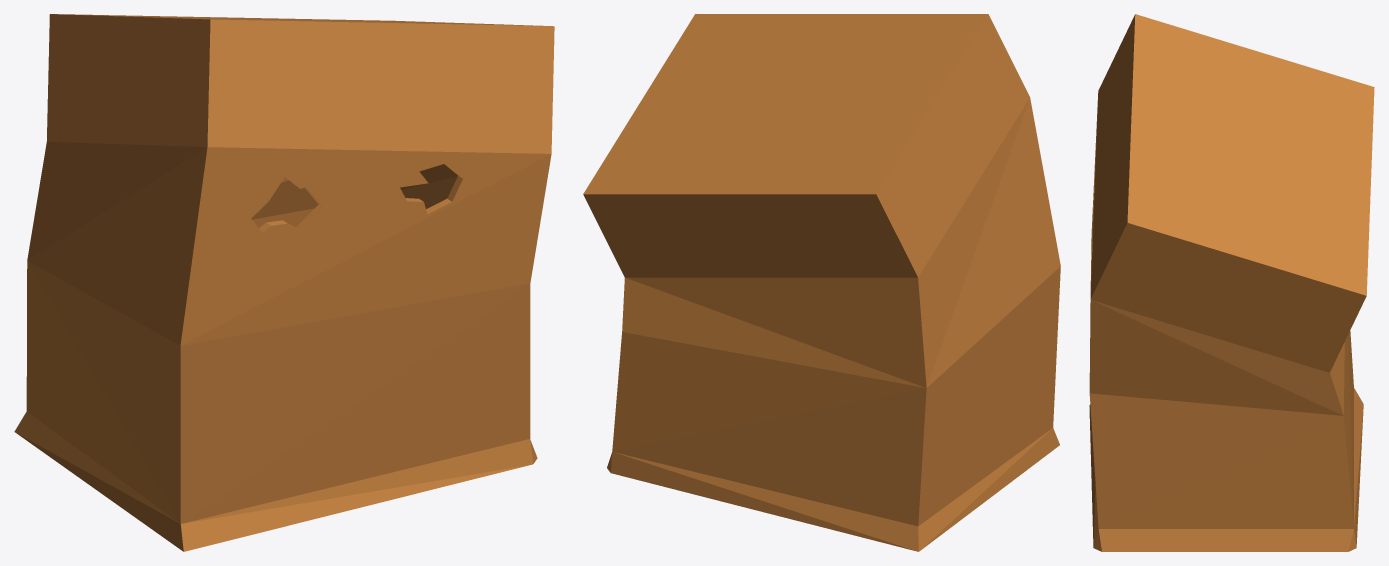
File: Paperbag.fbx
3 renders of one model, left to right at view 1: azimuth 30°, elevation 25°; view 2: azimuth 150°, elevation 25°; view 3: azimuth 270°, elevation 25°, orthographic. The views are drawn at different scales.
Parts seen in each view (by area): view 1: Model; view 2: Model; view 3: Model.
Part boxes in pixels (box(x1,y1,x2,y2)): Model: box(14, 14, 554, 551); Model: box(583, 14, 1060, 551); Model: box(1089, 14, 1374, 551).
Bounding box in the file's own units: 1.25 × 1.5 × 0.9374.
